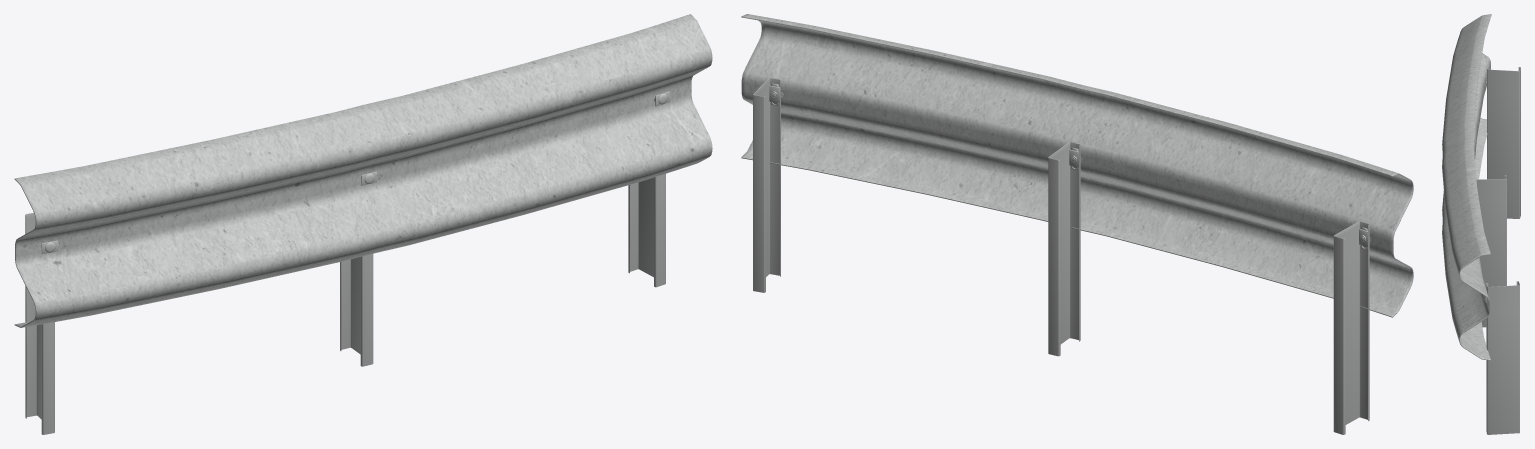
3 renders of one model, left to right at view 1: azimuth 30°, elevation 25°; view 2: azimuth 150°, elevation 25°; view 3: azimuth 270°, elevation 25°, orthographic. The views are drawn at different scales.
Visible parts, largest first — view 1: Plane.004; view 2: Plane.004; view 3: Plane.004.
Boxes of the visible parts, bbox=[...] form: Plane.004: bbox=[14, 14, 712, 434]; Plane.004: bbox=[741, 14, 1413, 434]; Plane.004: bbox=[1442, 14, 1520, 434].
Size of the model in its own units: 2.02 by 0.7491 by 0.2813.
1 material, 1 textured.
